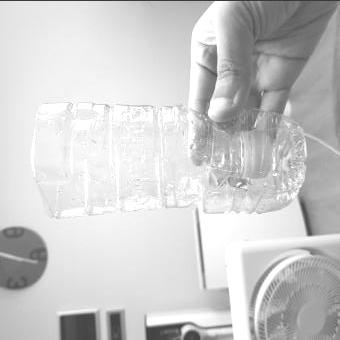bottle: (31, 103, 306, 219)
